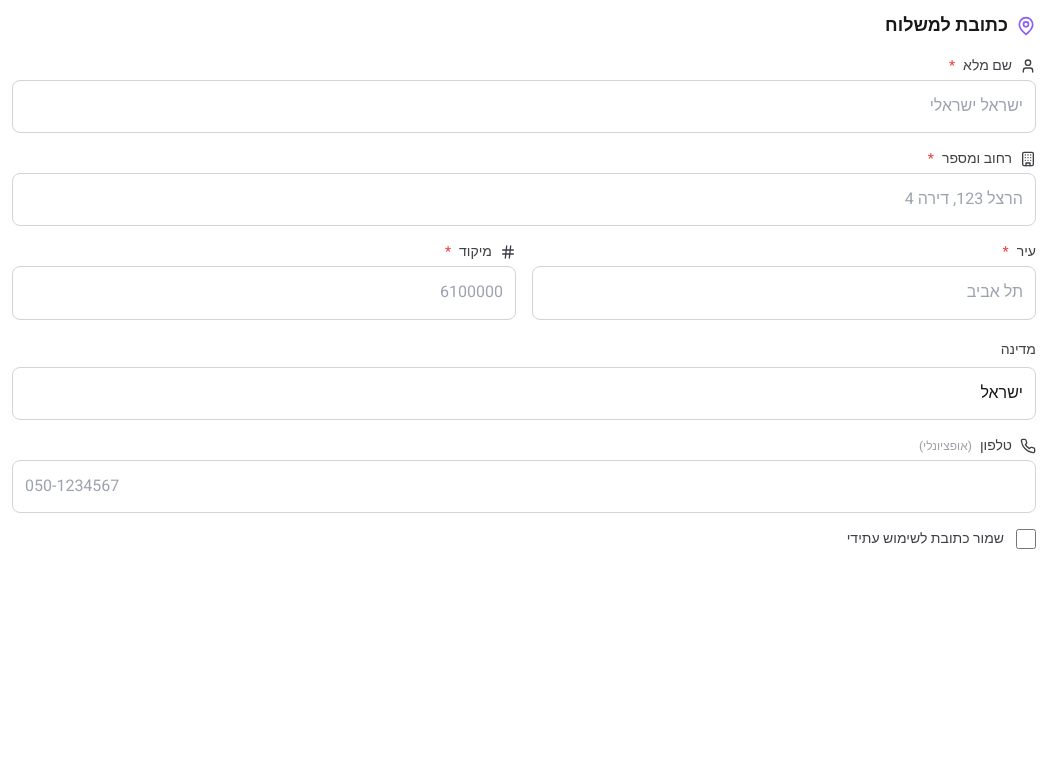
Scenario: ShippingAddressForm › Validation › shows error when name is empty on blur
Click the field labelled "שם מלא *".
click(524, 107)  # box left=12, top=80, right=1036, bottom=133
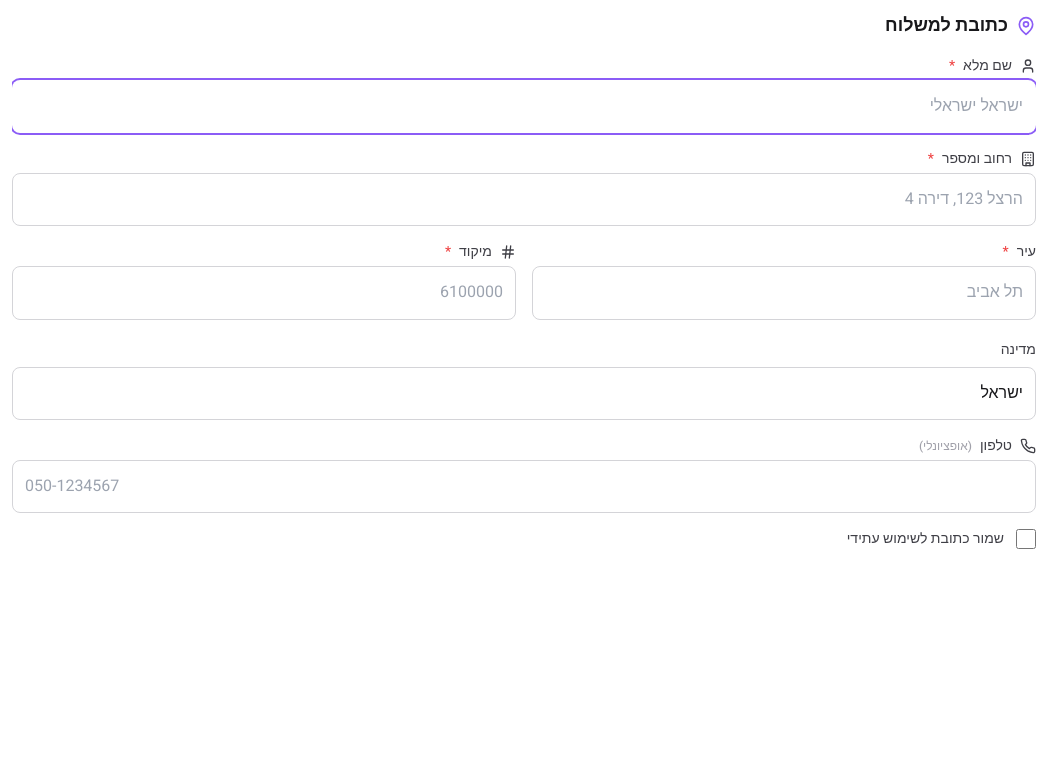
Press Tab
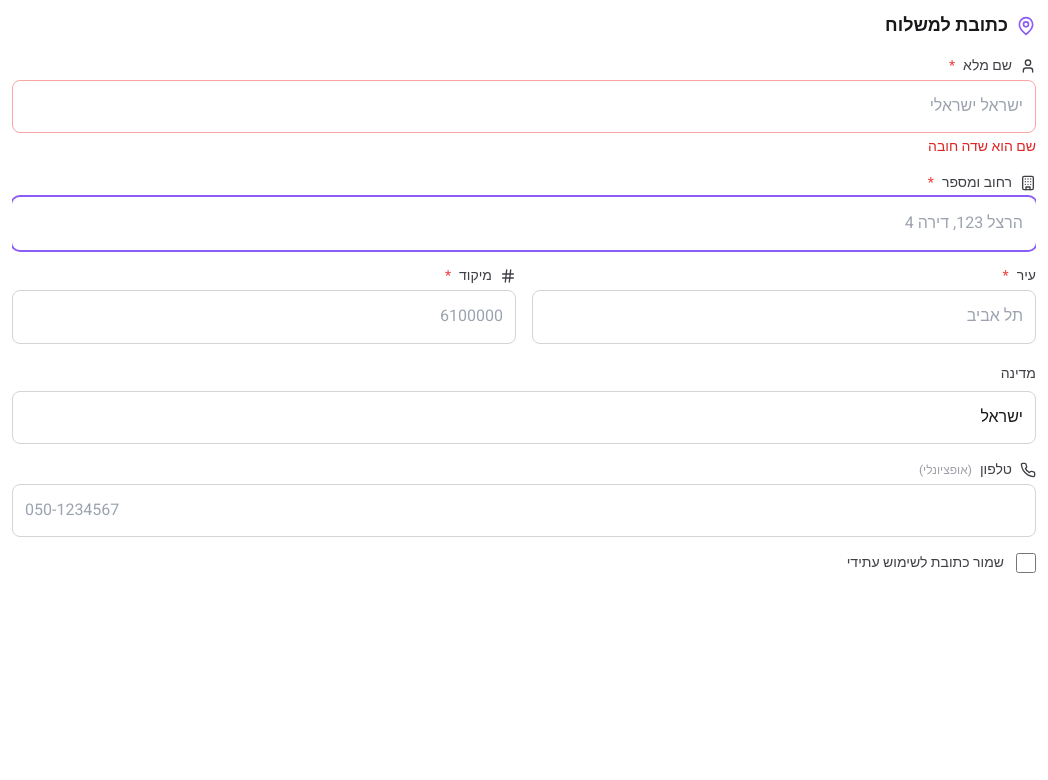
Expected: the text "שם הוא שדה חובה" is shown, left=928, top=136, right=1036, bottom=157
